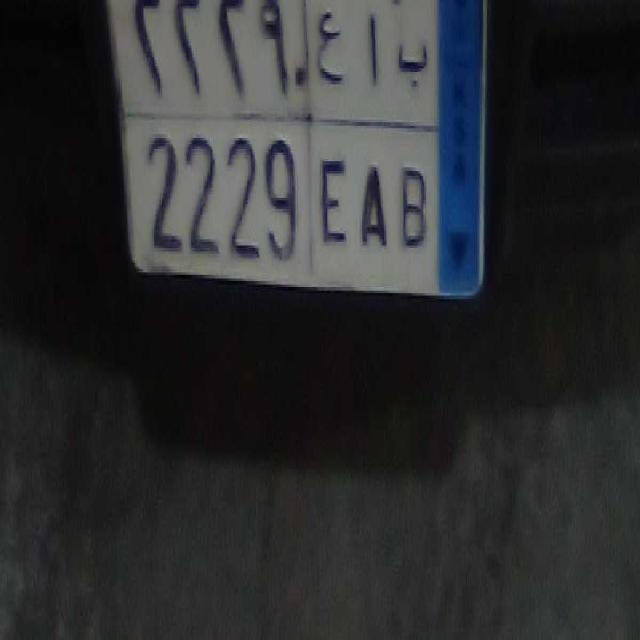license_plate: (133, 104, 433, 289)
